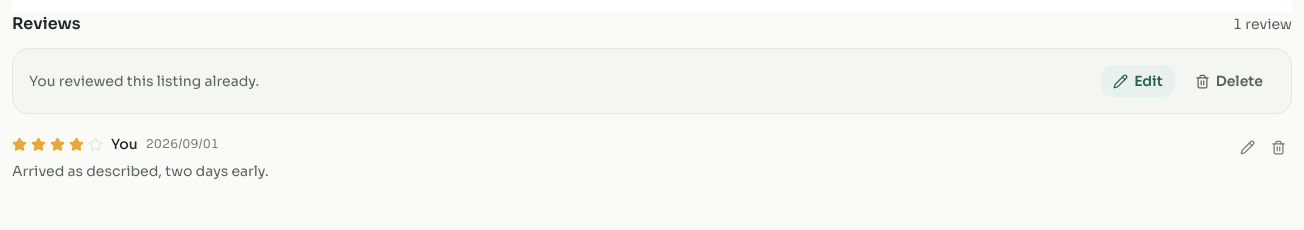
Test: ReviewsSection › drops a review that has since gone when the server says 404
Click the button named "Delete your review" at (1278,148), box top-left (1265, 134), bottom-right (1292, 161)
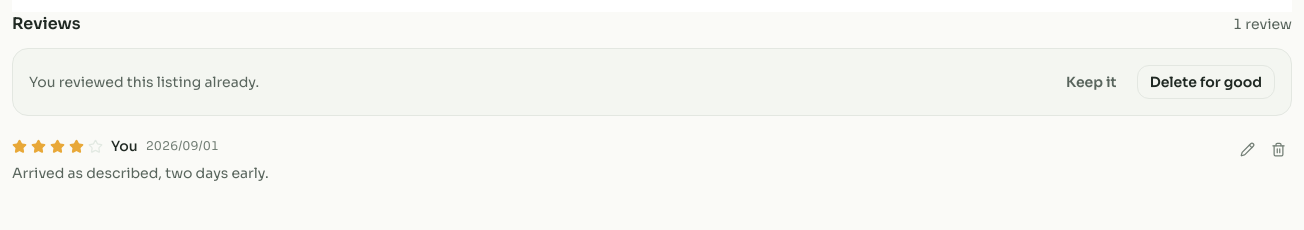
Click the button "Delete for good" at (1206,82), box top-left (1137, 65), bottom-right (1275, 99)
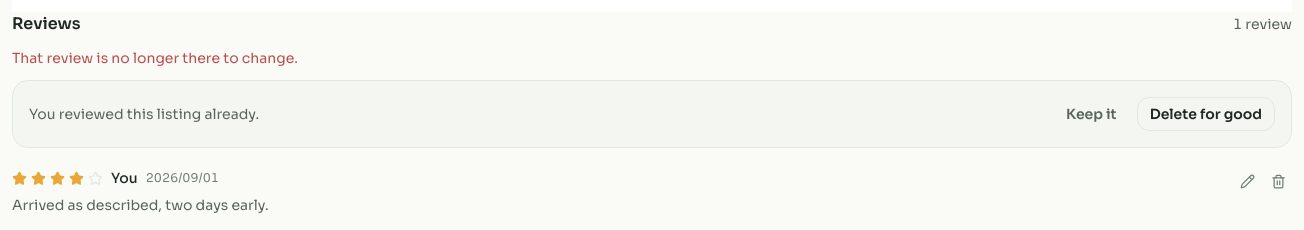
Result: the message reads "That review is no longer there to change." at top-left (12, 49), bottom-right (298, 67)
